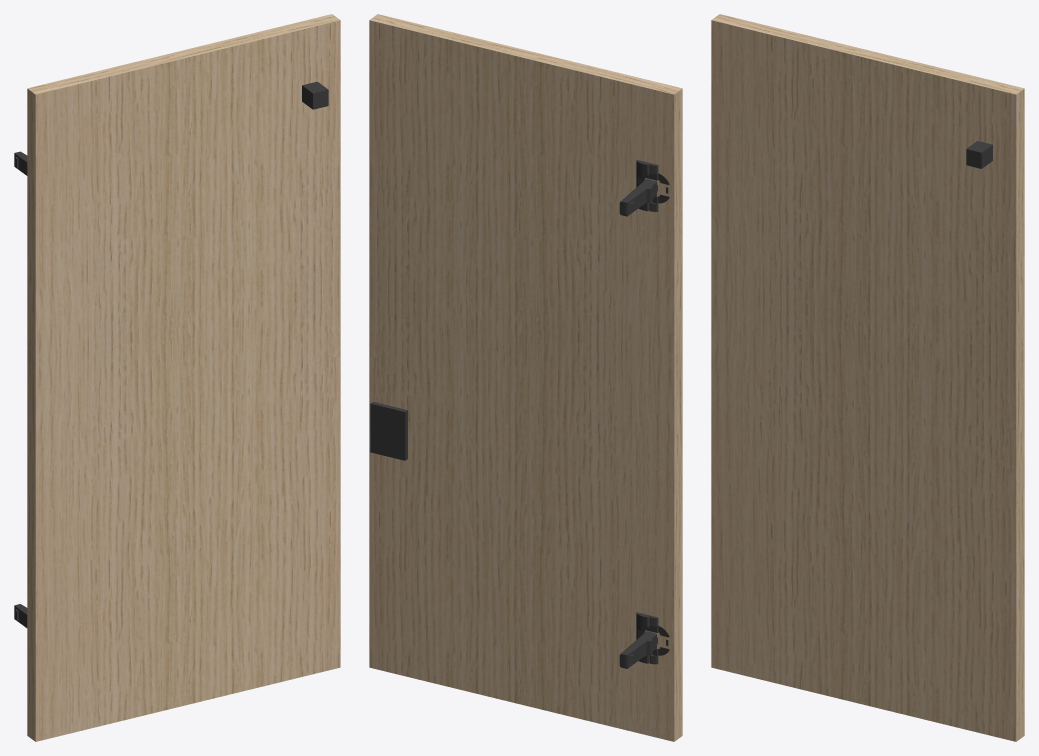
File: Benk_B_dor_venstre.glb
The picture shows the model from 3 angles, left to right: view 1: azimuth 30°, elevation 25°; view 2: azimuth 150°, elevation 25°; view 3: azimuth 330°, elevation 25°; orthographic projection.
Parts seen in each view (by area): view 1: 2025-284 Vitrineskap; view 2: 2025-284 Vitrineskap, Benk B dør venstre hengsel z758 Blum 71B3590, Benk B dør venstre hengsel z202 Blum 71B3590; view 3: 2025-284 Vitrineskap.
Part boxes in pixels (left/top/right/bottom): 2025-284 Vitrineskap: left=27, top=14, right=340, bottom=741; 2025-284 Vitrineskap: left=369, top=14, right=682, bottom=741; Benk B dør venstre hengsel z758 Blum 71B3590: left=619, top=160, right=669, bottom=216; Benk B dør venstre hengsel z202 Blum 71B3590: left=619, top=612, right=669, bottom=668; 2025-284 Vitrineskap: left=711, top=14, right=1024, bottom=741.
Size of the model in its own units: 393 by 797 by 112.
Materials: 2 (1 with a texture image).
